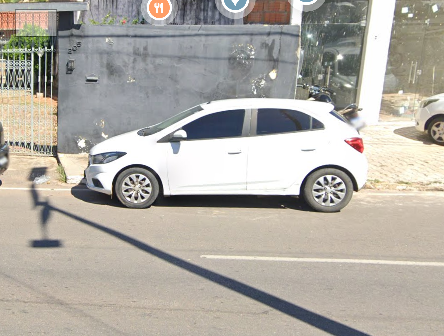car: (79, 86, 372, 218)
